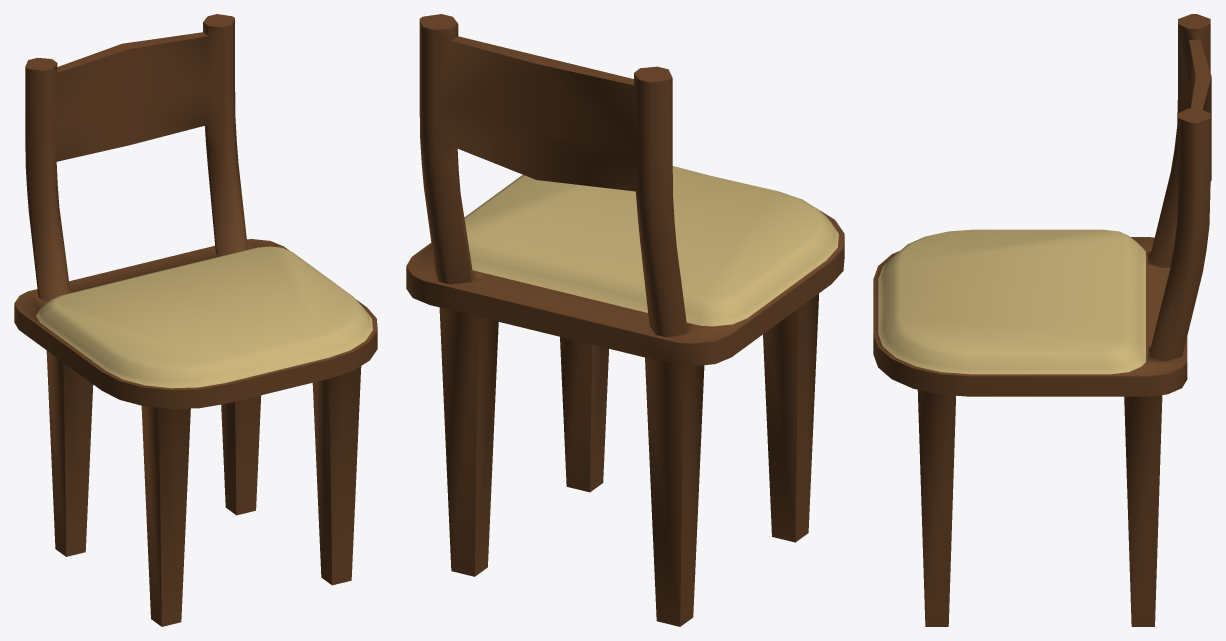
The model's file is Silla.fbx.
3 views of the same model, side by side, from view 1: azimuth 30°, elevation 25°; view 2: azimuth 150°, elevation 25°; view 3: azimuth 270°, elevation 25° (orthographic). The views are drawn at different scales.
Visible parts, largest first — view 1: SILLA, SILLA.001, SILLA.002; view 2: SILLA, SILLA.002, SILLA.001; view 3: SILLA, SILLA.001, SILLA.002.
Boxes of the visible parts, x1,y1,x2,y2 form: SILLA: (14, 14, 377, 408); SILLA.001: (141, 366, 361, 626); SILLA.002: (46, 350, 261, 556); SILLA: (406, 14, 844, 366); SILLA.002: (439, 307, 704, 626); SILLA.001: (560, 293, 818, 542); SILLA: (873, 14, 1211, 396); SILLA.001: (917, 390, 955, 626); SILLA.002: (1124, 395, 1162, 626).
Bounding box in the file's own units: 187 × 316 × 191.
